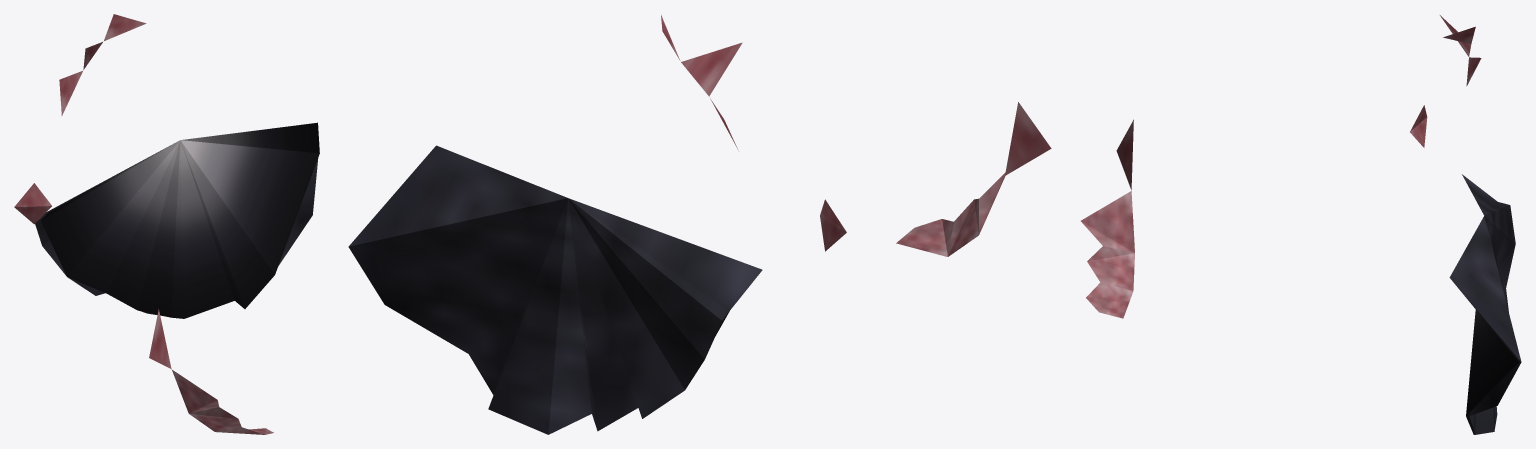
The picture shows the model from 3 angles, left to right: view 1: azimuth 30°, elevation 25°; view 2: azimuth 150°, elevation 25°; view 3: azimuth 270°, elevation 25°; orthographic projection. The views are drawn at different scales.
Parts seen in each view (by area): view 1: B_0170_1b_0; view 2: B_0170_1b_0; view 3: B_0170_1b_0.
Boxes of the visible parts, x1,y1,x2,y2 form: B_0170_1b_0: (14,14,319,434); B_0170_1b_0: (348,15,1051,434); B_0170_1b_0: (1081,15,1521,434).
Bounding box in the file's own units: 0.4843 × 0.4224 × 0.4865.
Materials: 1 (1 with a texture image).
